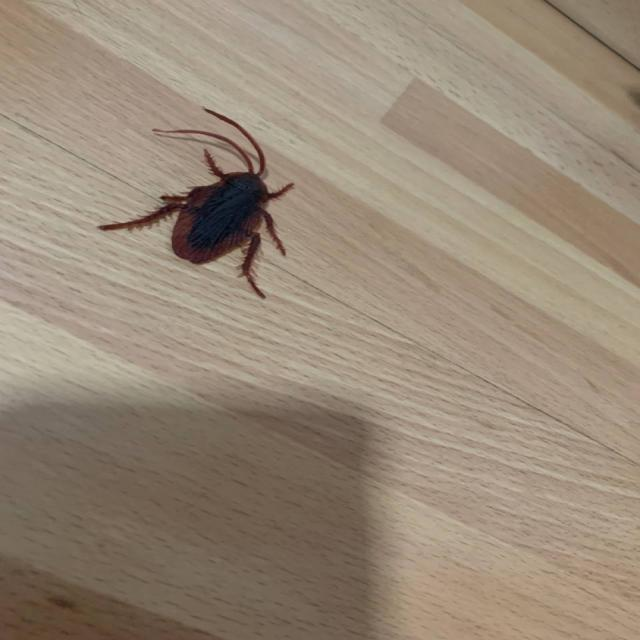Cockroach: (95, 106, 304, 298)
